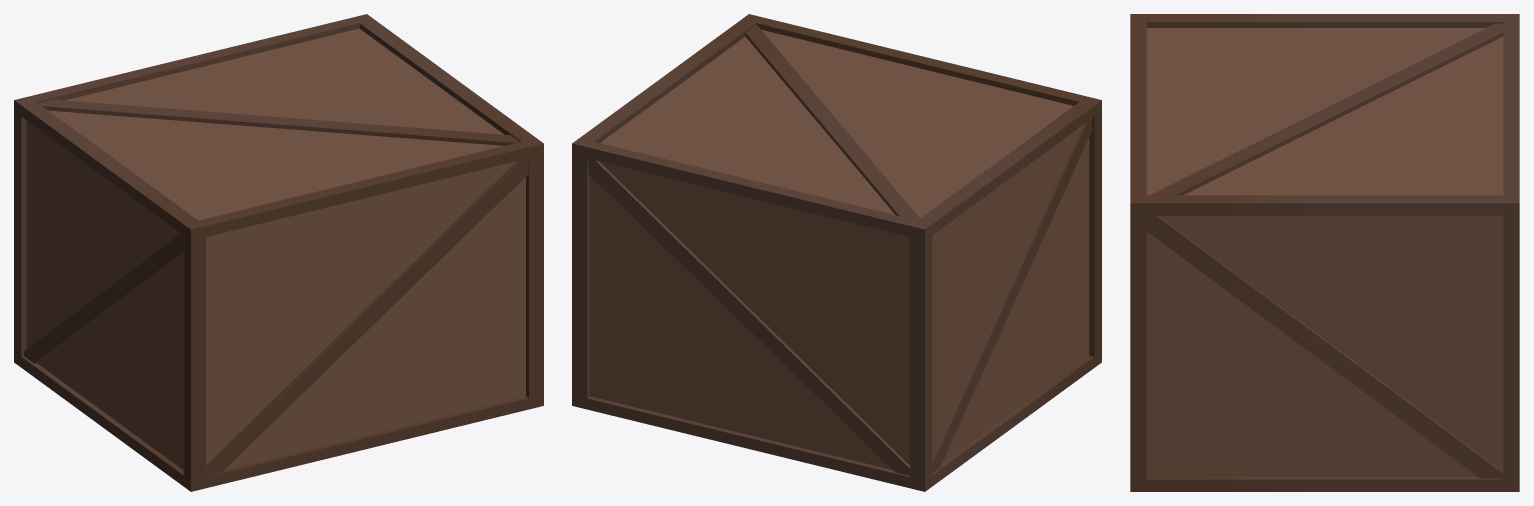
File: Box Big.glb
3 renders of one model, left to right at view 1: azimuth 30°, elevation 25°; view 2: azimuth 150°, elevation 25°; view 3: azimuth 270°, elevation 25°, orthographic. The views are drawn at different scales.
Visible parts, largest first — view 1: Box Big; view 2: Box Big; view 3: Box Big.
Part boxes in pixels (bbox=[...]): Box Big: bbox=[14, 14, 543, 491]; Box Big: bbox=[572, 14, 1101, 491]; Box Big: bbox=[1130, 14, 1519, 491].
Size of what is drawn, in the model's own units: 1.02 by 0.7242 by 0.8858.
1 material, 1 textured.
